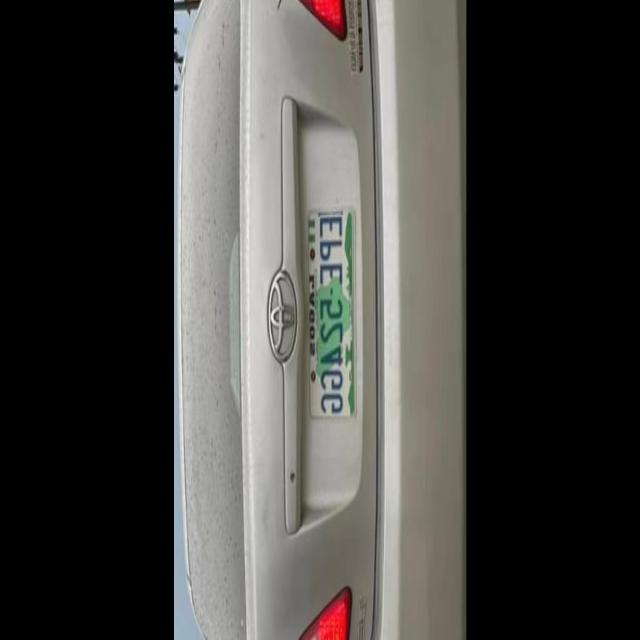Nigerian License Plate - vdataset benjamin-daria: (303, 203, 360, 425)
